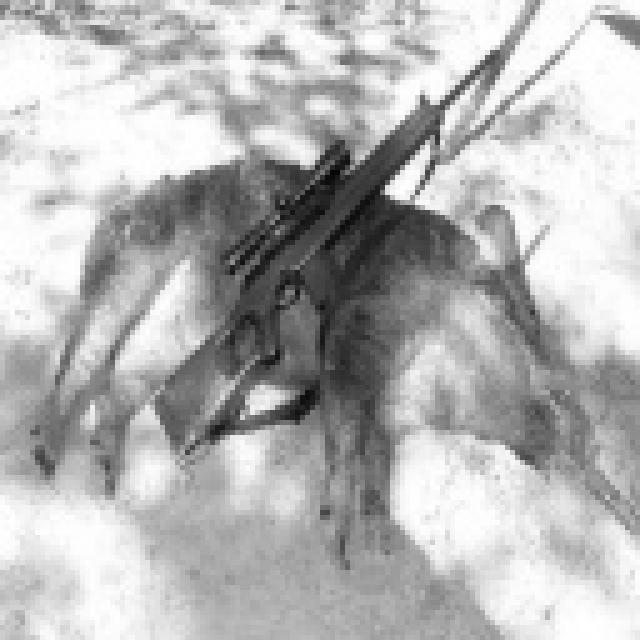Rifle: (135, 0, 505, 460)
